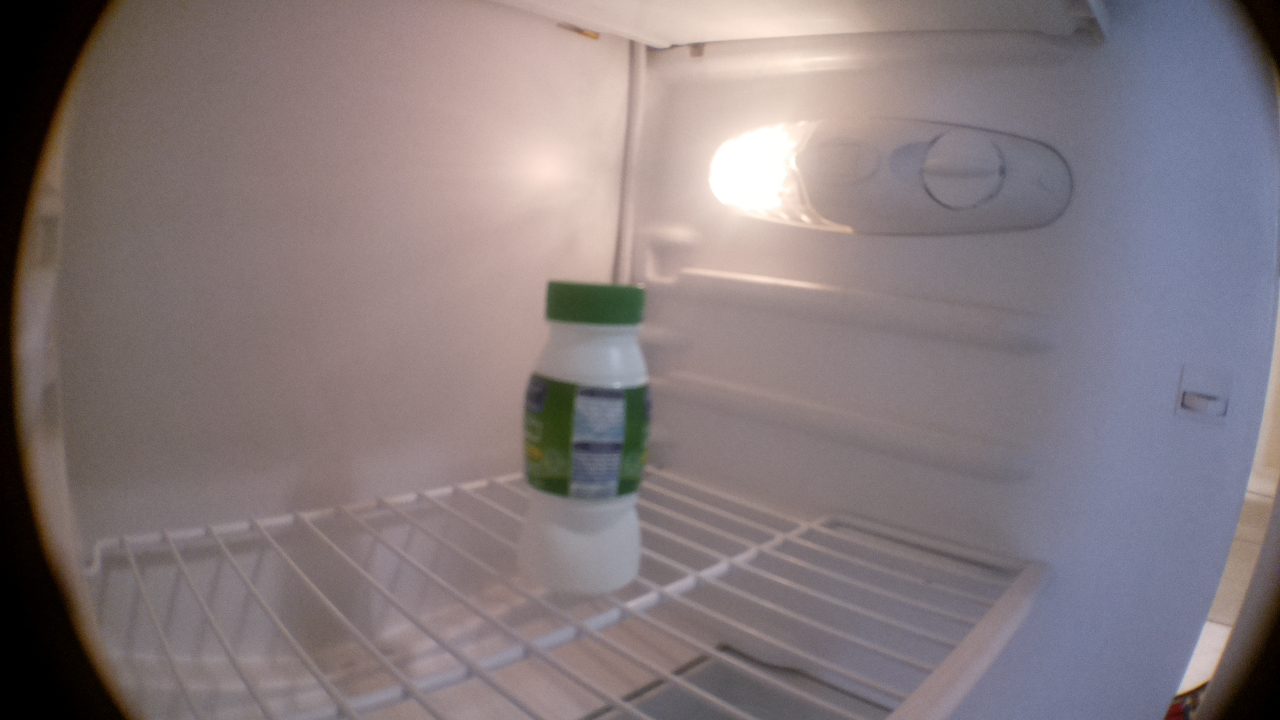laban: (517, 275, 654, 592)
